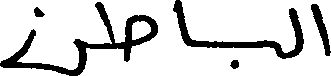ا: (310, 2, 329, 56), (174, 0, 192, 48)
ب: (230, 39, 282, 71)
ط: (96, 0, 156, 62)
ل: (291, 6, 303, 58)
ن: (0, 5, 86, 75)
